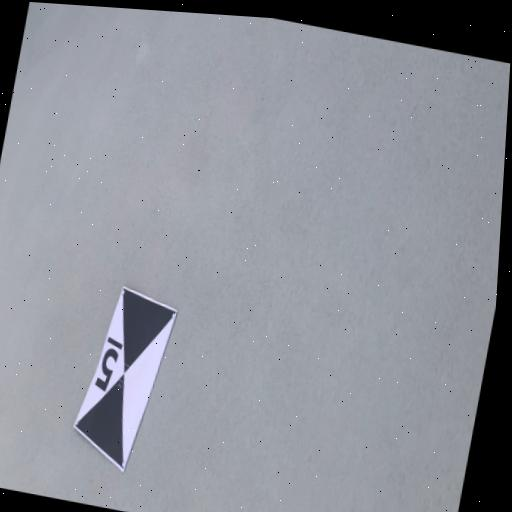target5: (74, 285, 178, 476)
